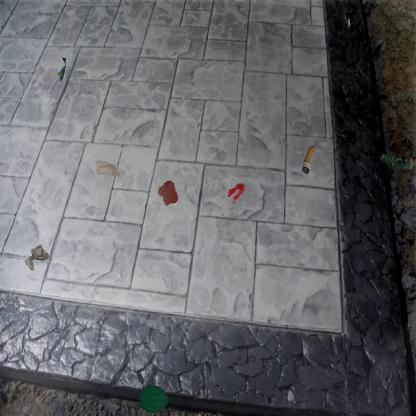dirty: (137, 384, 170, 416), (23, 242, 52, 273), (378, 152, 416, 171), (94, 158, 122, 179), (301, 146, 315, 174), (343, 10, 356, 34), (56, 56, 68, 81)
liquid: (156, 180, 180, 208), (227, 182, 244, 203)
